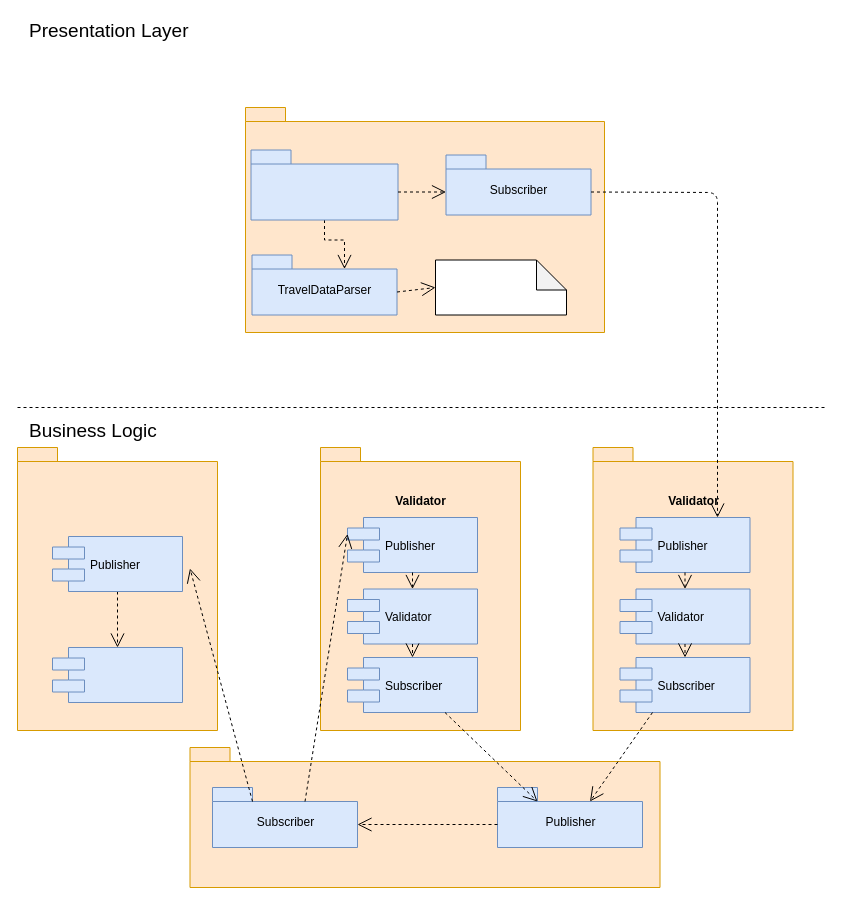
Image size: 846x905. Some labels were removed from this diagram. The box of each missing label's shape, as (x1, y1, x2, y2) in pixels:
Generator: (52, 646, 182, 702)
Map: (250, 149, 398, 220)
PersistentStorage: (434, 259, 566, 315)
Pipe: (189, 746, 660, 888)
TravelRequestProvider: (16, 446, 218, 730)
Visualiser: (244, 106, 604, 332)
